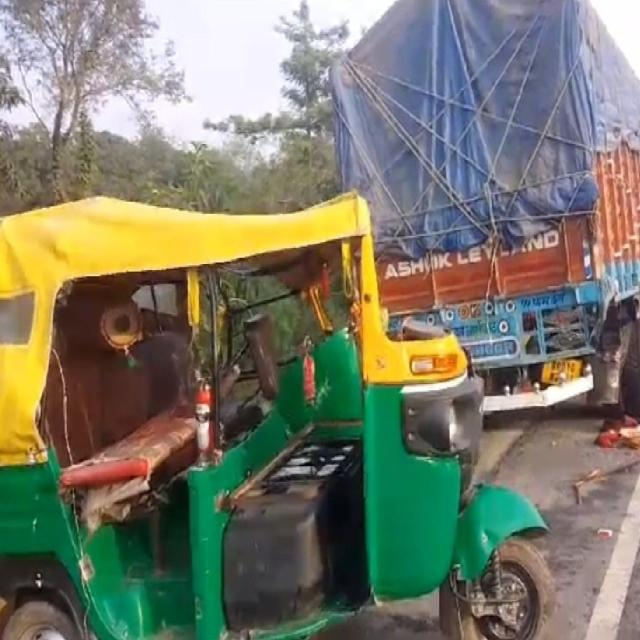accident: (0, 193, 551, 638)
truck: (331, 2, 640, 411)
